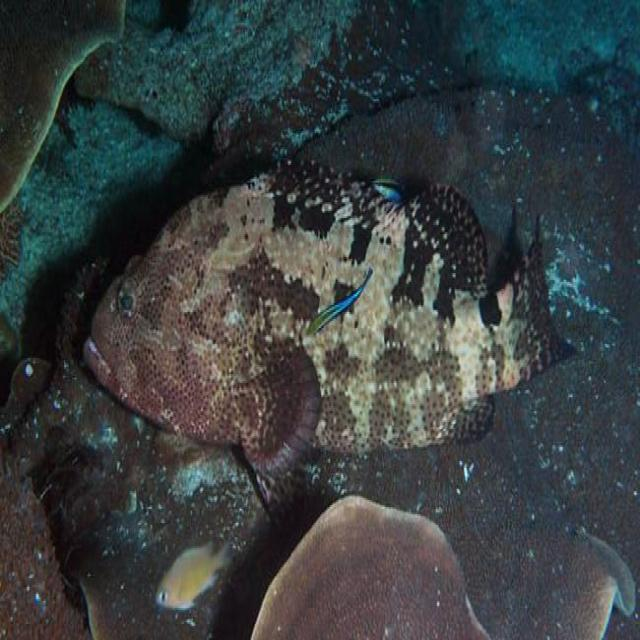ikan: (81, 152, 577, 516)
